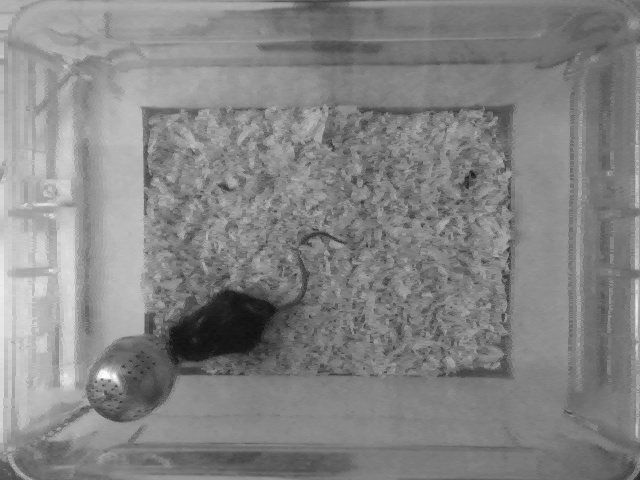mice: (158, 230, 345, 366)
